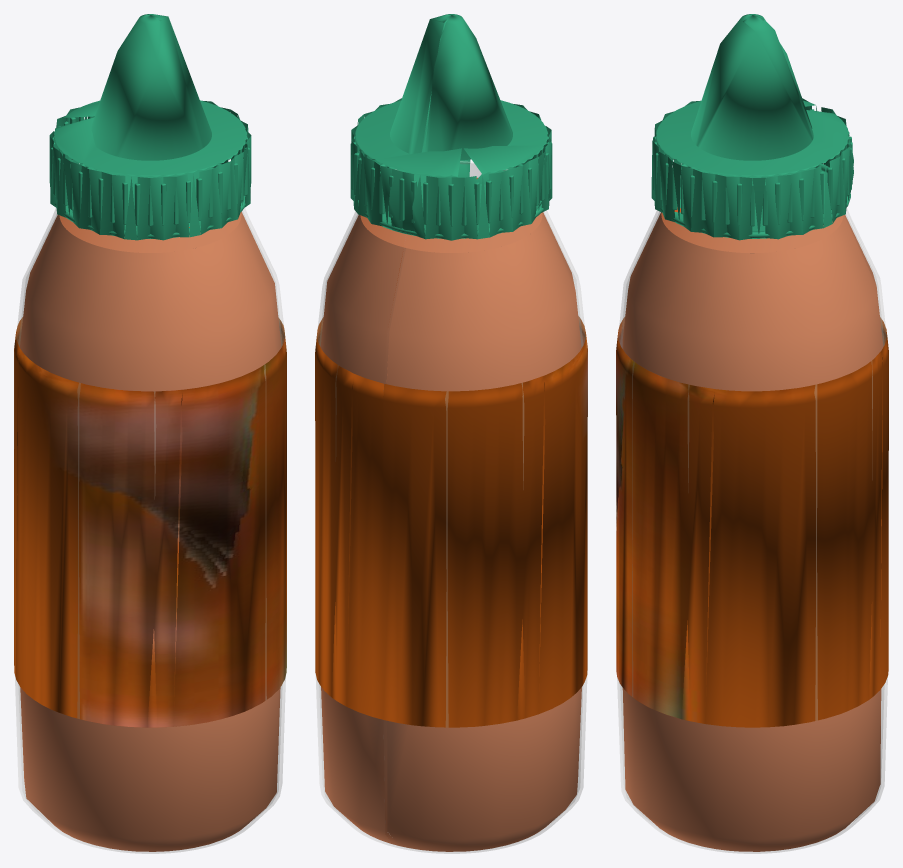
3 renders of one model, left to right at view 1: azimuth 30°, elevation 25°; view 2: azimuth 150°, elevation 25°; view 3: azimuth 270°, elevation 25°, orthographic.
Parts seen in each view (by area): view 1: profile-conforming printed label, thin shell with corrected shoulder, separate contents, removable closure, tapered nozzle; view 2: profile-conforming printed label, thin shell with corrected shoulder, separate contents, removable closure, tapered nozzle; view 3: profile-conforming printed label, thin shell with corrected shoulder, separate contents, removable closure, tapered nozzle.
Boxes of the visible parts, x1=… form: profile-conforming printed label: x1=14, y1=317, x2=286, y2=727; thin shell with corrected shoulder: x1=15, y1=208, x2=285, y2=853; separate contents: x1=20, y1=212, x2=281, y2=851; removable closure: x1=49, y1=100, x2=251, y2=240; tapered nozzle: x1=91, y1=14, x2=211, y2=160; profile-conforming printed label: x1=315, y1=316, x2=587, y2=727; thin shell with corrected shoulder: x1=316, y1=161, x2=586, y2=853; separate contents: x1=320, y1=177, x2=581, y2=851; removable closure: x1=350, y1=98, x2=552, y2=240; tapered nozzle: x1=390, y1=14, x2=512, y2=160; profile-conforming printed label: x1=616, y1=317, x2=888, y2=727; thin shell with corrected shoulder: x1=617, y1=208, x2=887, y2=853; separate contents: x1=622, y1=207, x2=883, y2=851; removable closure: x1=651, y1=98, x2=853, y2=240; tapered nozzle: x1=691, y1=14, x2=813, y2=160.
Size of the model in its own units: 0.0613 by 0.1964 by 0.0613.
5 materials, 1 textured.
